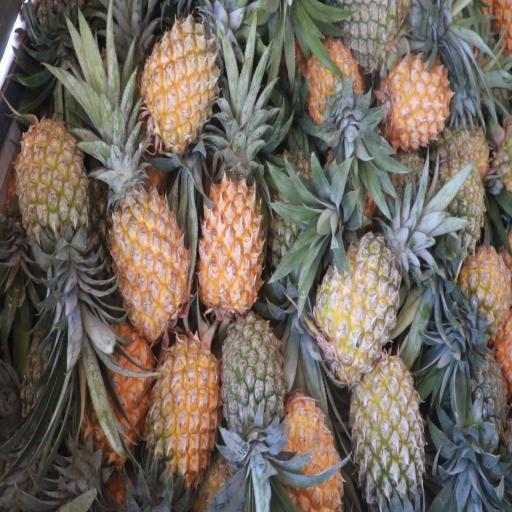------------------------------: (350, 364, 424, 510), (318, 238, 397, 371)
Pineapple - v8 v1: (114, 170, 189, 338), (21, 118, 89, 260), (146, 22, 219, 147), (200, 176, 262, 322), (151, 342, 216, 481), (92, 332, 154, 453), (283, 400, 342, 508), (393, 58, 452, 143), (309, 45, 365, 132), (459, 254, 510, 347)
